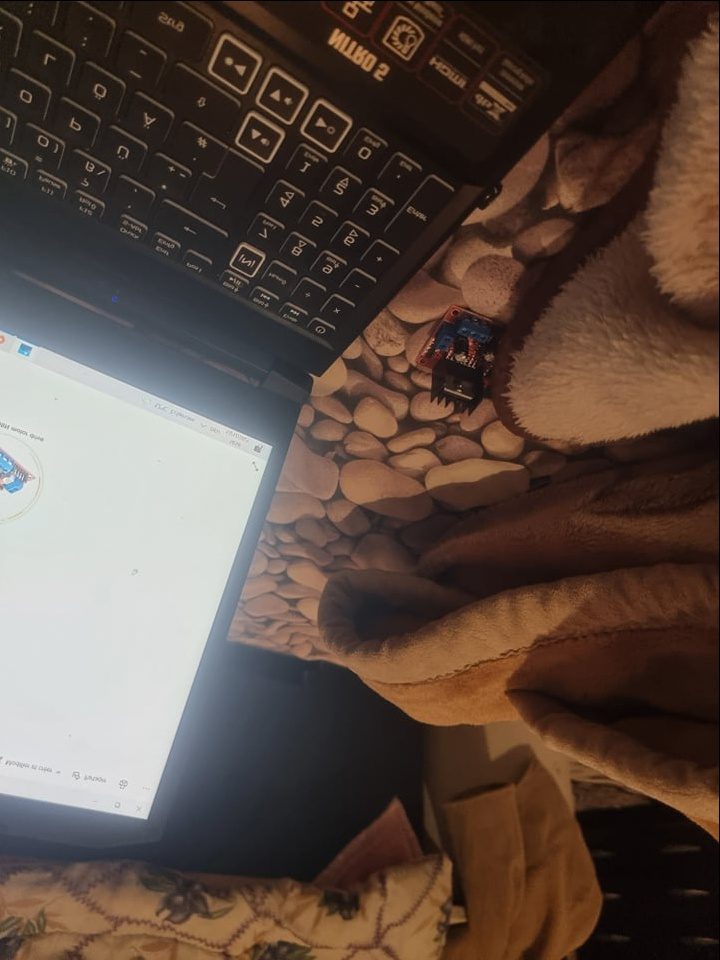MOTOR: (416, 303, 506, 416)
